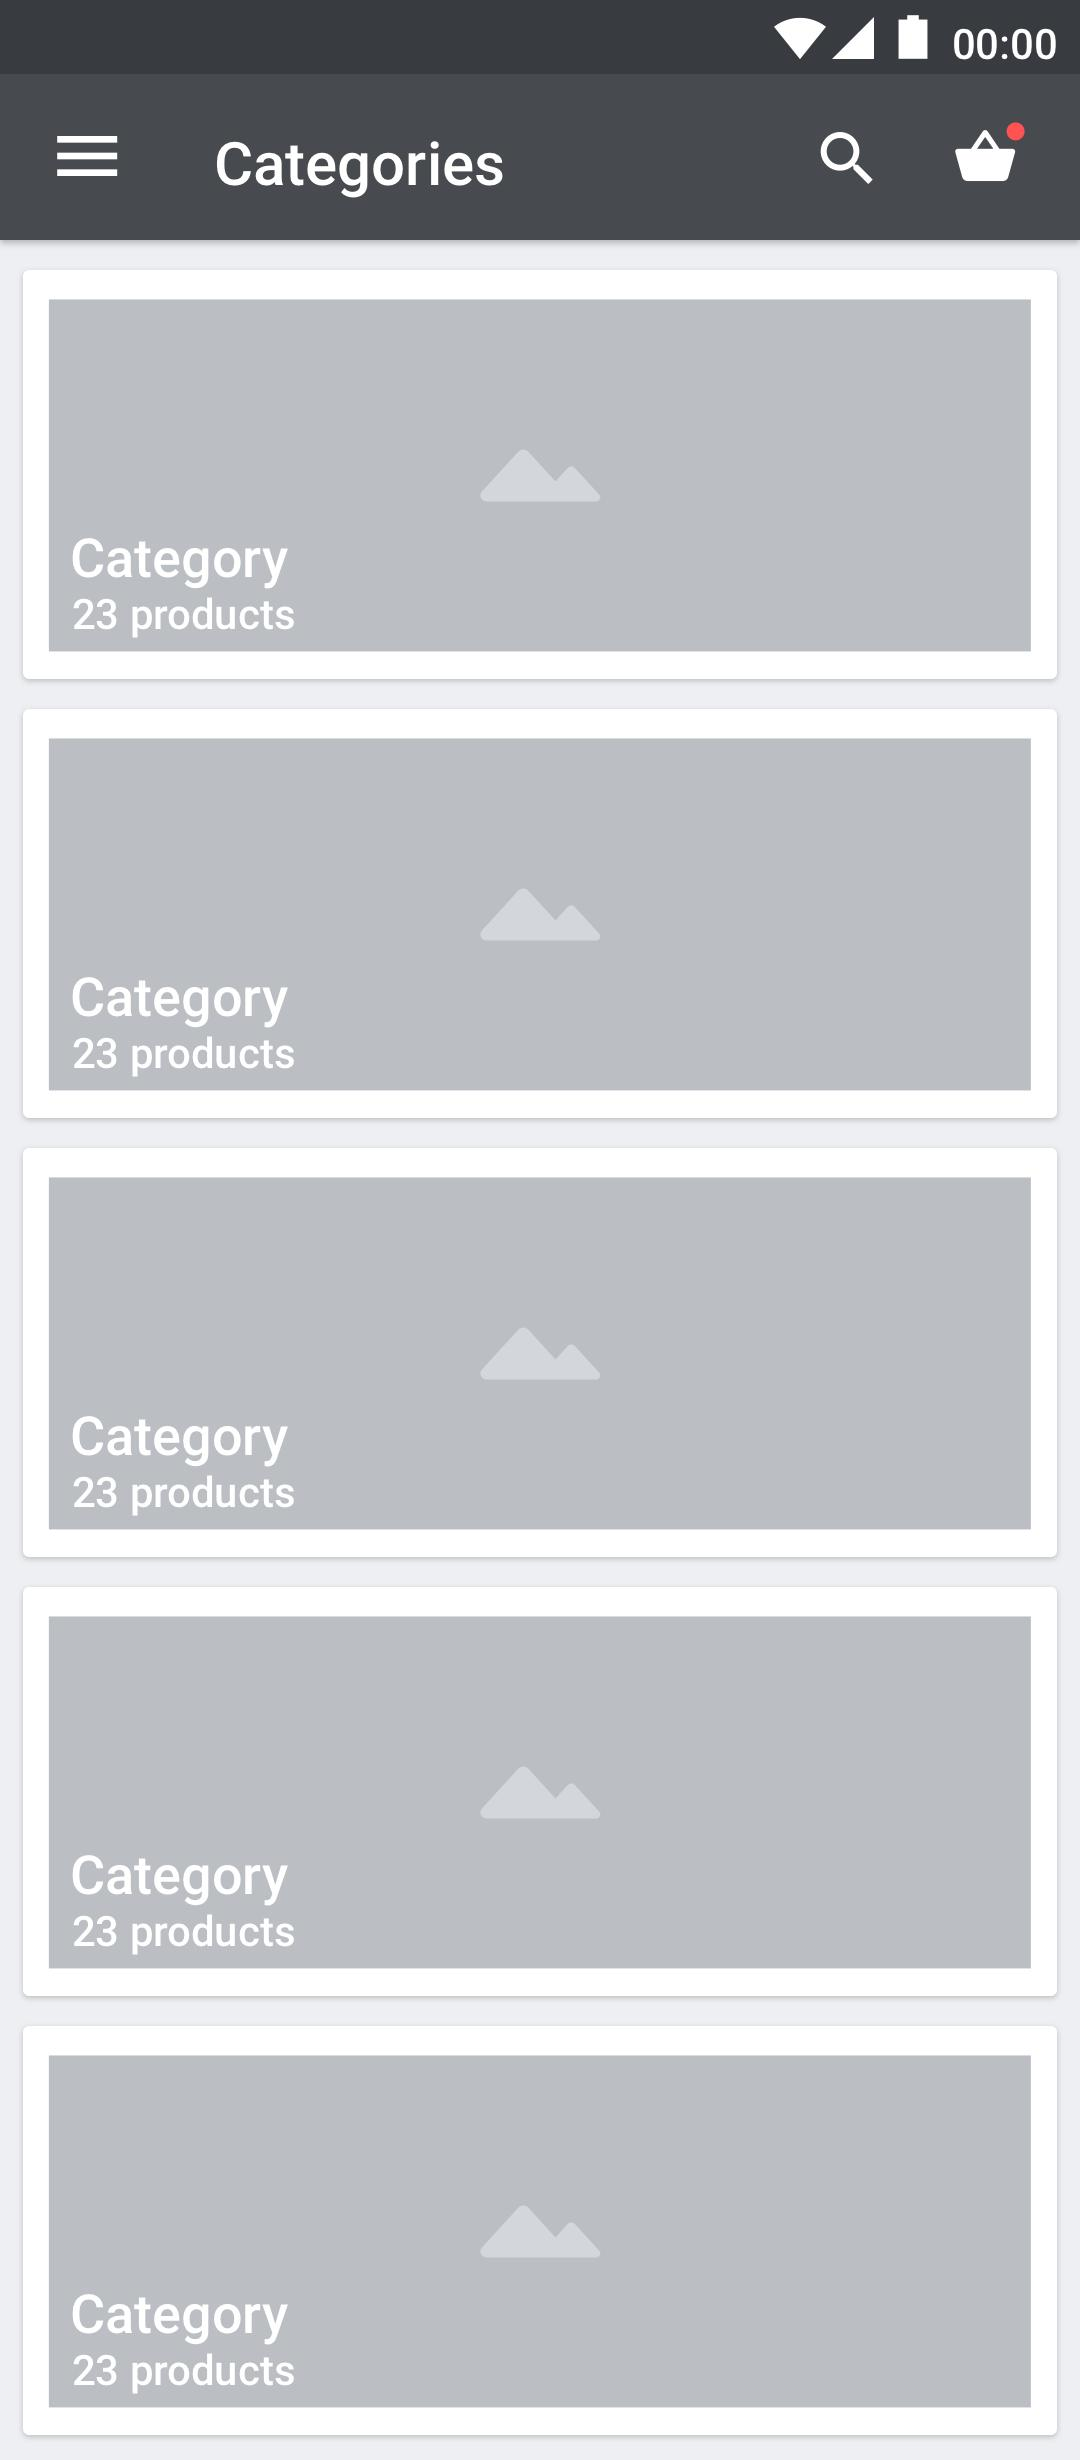Card: (22, 2024, 1060, 2438), (22, 268, 1060, 682), (24, 1585, 1060, 1999), (22, 1147, 1060, 1559), (22, 709, 1060, 1122)
Icon: (954, 122, 1031, 182), (819, 133, 876, 190), (57, 136, 119, 177)
Image: (50, 1177, 1031, 1531), (49, 300, 1031, 653), (50, 1614, 1031, 1967), (49, 2055, 1031, 2407), (50, 741, 1031, 1092)
Text: (217, 141, 505, 199), (74, 2291, 290, 2347), (72, 1854, 290, 1908), (74, 537, 290, 590), (72, 976, 289, 1029), (74, 1415, 290, 1465), (72, 2353, 295, 2396), (71, 598, 297, 639), (71, 1916, 297, 1956), (71, 1037, 295, 1076), (72, 1476, 297, 1516)
Toolbar: (2, 75, 1080, 242)
UpperTaskBar: (2, 2, 1080, 74)
